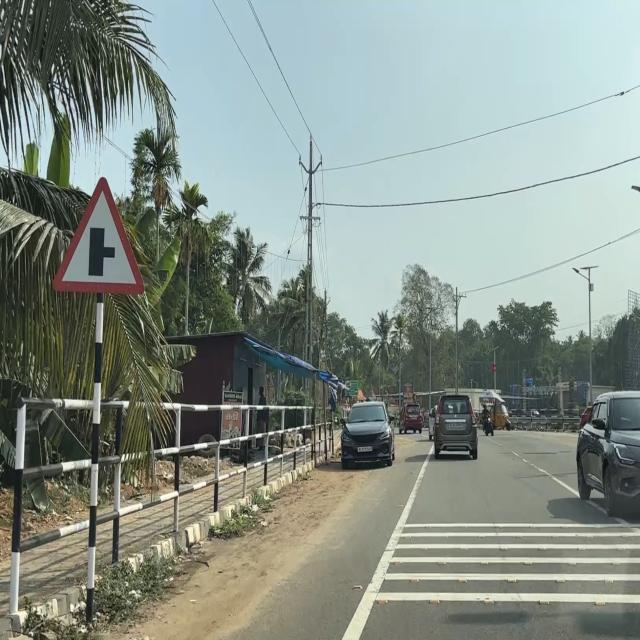SIDE_ROAD_RIGHT: (49, 171, 148, 300)
